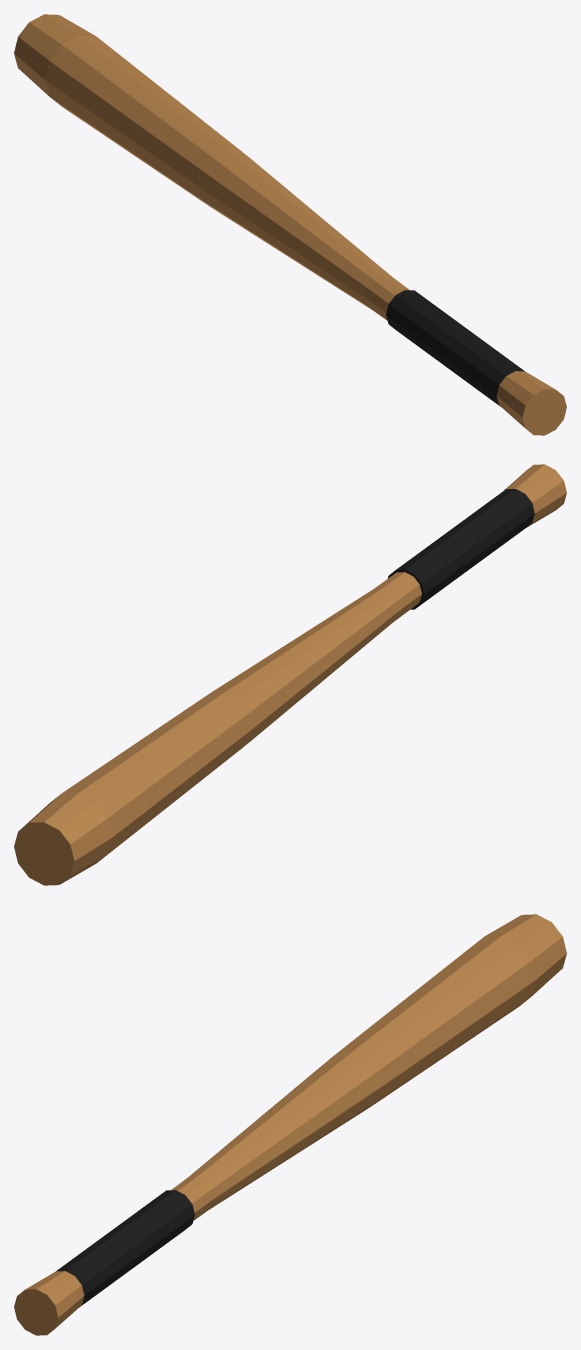
Rendered from bat.glb.
3 renders of one model, top to bottom at view 1: azimuth 30°, elevation 25°; view 2: azimuth 150°, elevation 25°; view 3: azimuth 330°, elevation 25°, orthographic.
Visible parts, largest first — view 1: bat, Cylinder; view 2: bat, Cylinder; view 3: bat, Cylinder.
Boxes of the visible parts, bbox=[...] form: bat: bbox=[14, 14, 566, 435]; Cylinder: bbox=[386, 290, 524, 406]; bat: bbox=[14, 464, 566, 885]; Cylinder: bbox=[388, 489, 534, 609]; bat: bbox=[14, 914, 566, 1335]; Cylinder: bbox=[56, 1190, 194, 1306].
Size of the model in its own units: 0.068 by 0.068 by 0.86.
